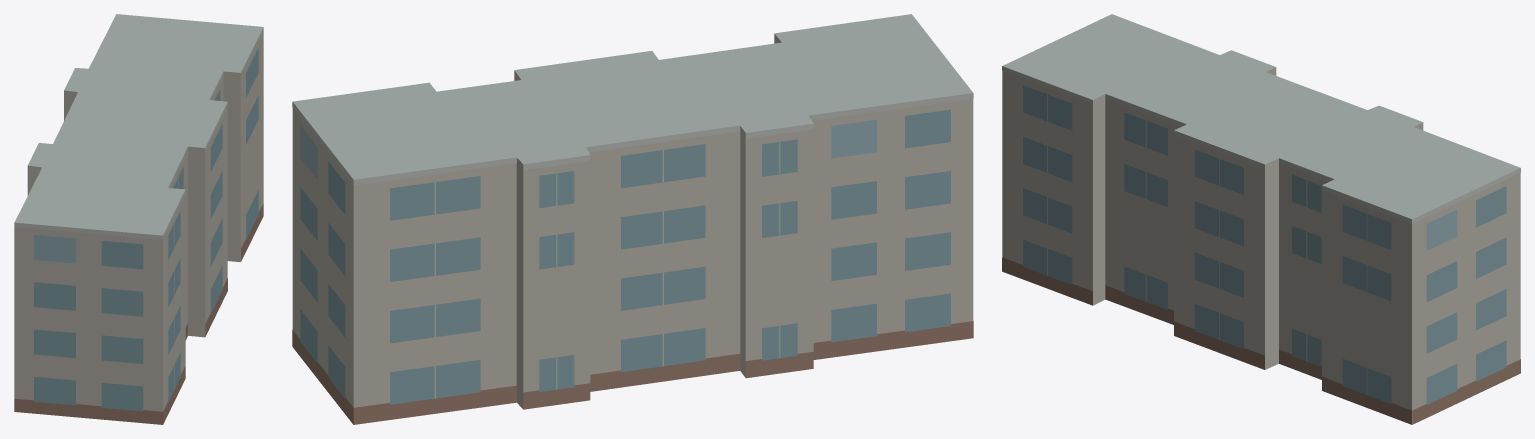
Rendered from survey-upis-32526102.glb.
The picture shows the model from 3 angles, left to right: view 1: azimuth 30°, elevation 25°; view 2: azimuth 150°, elevation 25°; view 3: azimuth 270°, elevation 25°; orthographic projection. The views are drawn at different scales.
Visible parts, largest first — view 1: survey-upis-32526102.tmp; view 2: survey-upis-32526102.tmp; view 3: survey-upis-32526102.tmp.
Part boxes in pixels (left/top/right/bottom): survey-upis-32526102.tmp: left=14, top=14, right=263, bottom=424; survey-upis-32526102.tmp: left=292, top=14, right=973, bottom=424; survey-upis-32526102.tmp: left=1002, top=14, right=1520, bottom=424.
Bounding box in the file's own units: 22.5 × 10.5 × 24.02.
